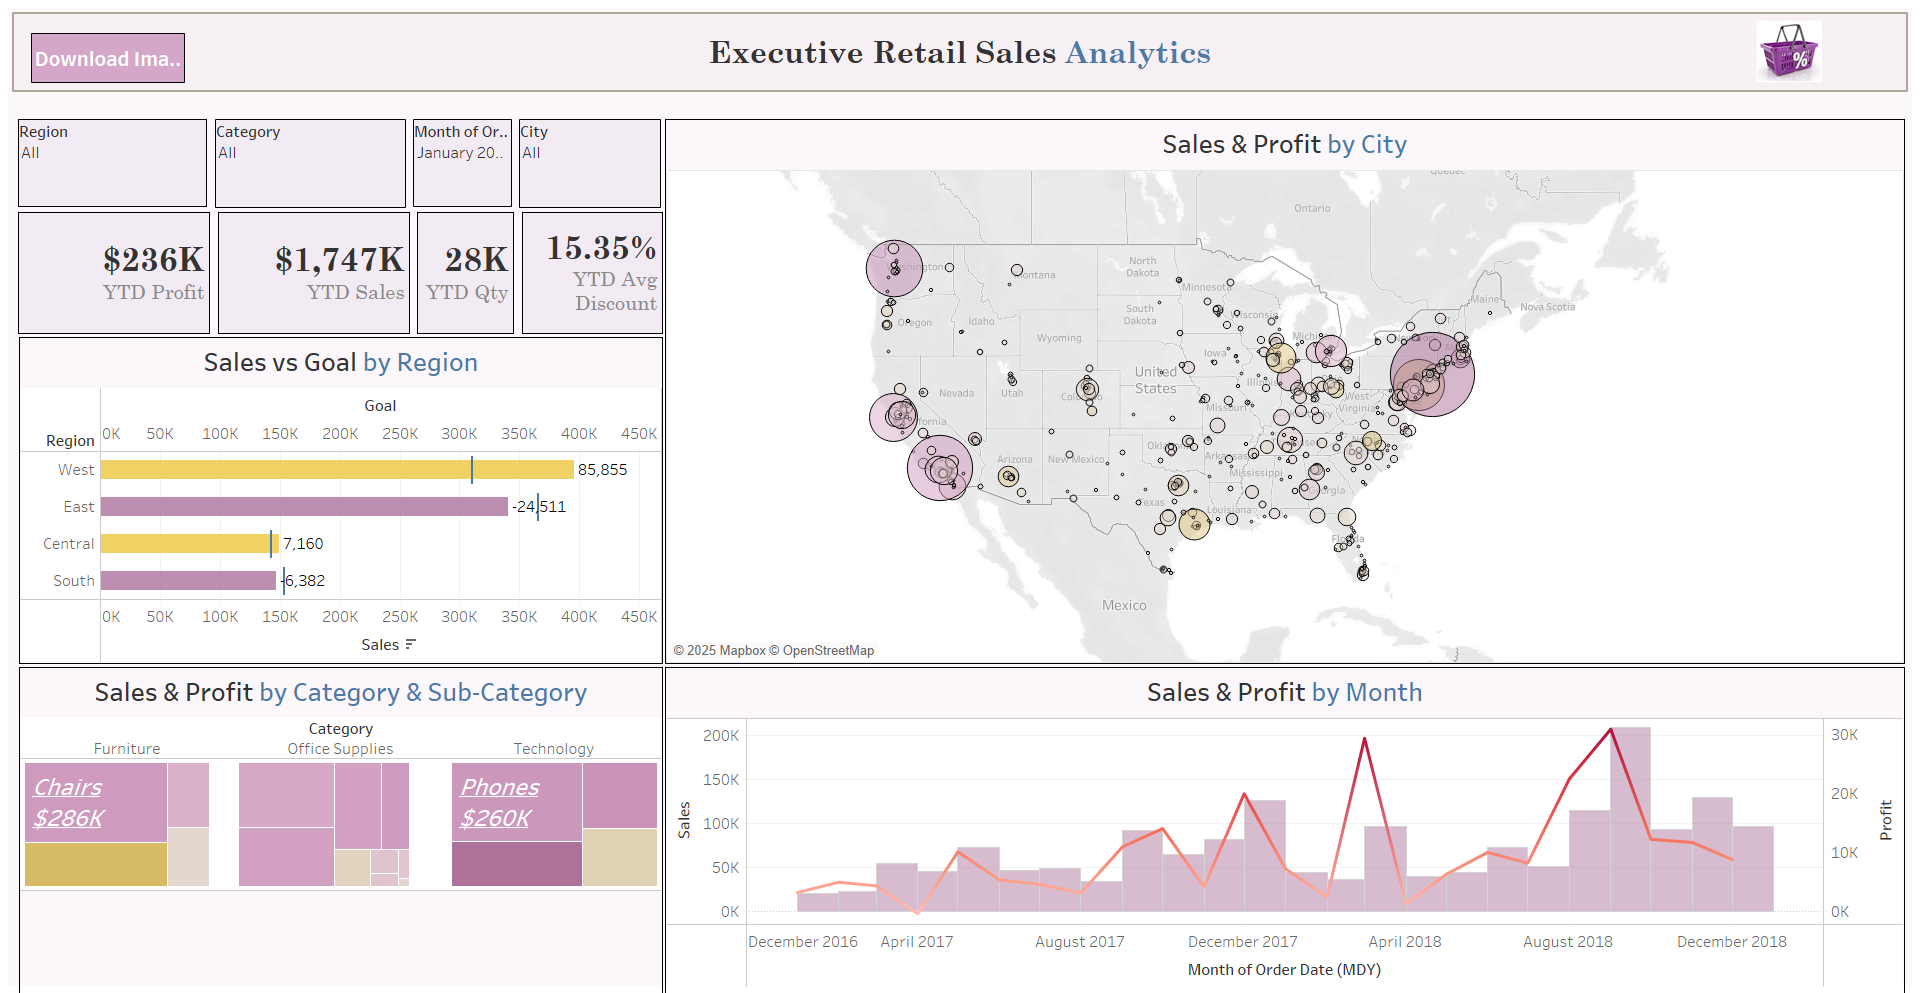

This screenshot's page, from the dashboard's own definition file:
{"tool":"tableau","page":{"name":"Dashboard 1","canvas":[1000,1000],"units":"permille","ordinal":0},"visuals":[{"type":"title","box":[4.8,10,990.3,109.9]},{"type":"image","param":"Image/STORE.jpg","box":[906.2,20,51.4,62.4]},{"type":"dashboard-object","box":[16.3,33.7,80.3,49.9]},{"type":"filter","title":"Sheet 2","param":"[federated.0otv4zu1pa6xi91826qd8018jcip].[none:Region:nk]","box":[9.5,119.9,98.5,88.6]},{"type":"filter","title":"Sheet 3","param":"[federated.0otv4zu1pa6xi91826qd8018jcip].[none:Category:nk]","box":[111.8,119.9,99.6,89.9]},{"type":"filter","title":"Sheet 4","param":"[federated.0otv4zu1pa6xi91826qd8018jcip].[tmn:Order Date (MDY):qk]","box":[215,119.9,51.4,88.6]},{"type":"filter","title":"Sheet 5","param":"[federated.0otv4zu1pa6xi91826qd8018jcip].[none:City:nk]","box":[270.1,119.9,74.2,89.9]},{"type":"worksheet","title":"Sheet 5","mark":"Automatic","box":[346.4,119.9,645.7,549.3]},{"type":"worksheet","title":"Sheet 6 (2)","mark":"Automatic","box":[7.2,209.7,93.5,131.1]},{"type":"worksheet","title":"Sheet 6","mark":"Automatic","box":[100.8,209.7,93.5,131.1]},{"type":"worksheet","title":"Sheet 6 (3)","mark":"Automatic","box":[194.3,209.7,63.4,131.1]},{"type":"worksheet","title":"Sheet 6 (4)","mark":"Automatic","box":[257.7,209.7,89.9,131.1]},{"type":"worksheet","title":"Sheet 2","mark":"Automatic","rows":["Region"],"cols":["Sales","Goal"],"box":[9.7,339.6,335.6,329.6]},{"type":"worksheet","title":"Sheet 3","mark":"Automatic","cols":["Category"],"box":[9.7,671.7,335.6,333.3]},{"type":"worksheet","title":"Sheet 4","mark":"Automatic","rows":["Sales","Profit"],"cols":["Order Date (MDY)"],"box":[346.4,671.7,645.8,333.3]}]}

Visuals, with their boxes on the dashboard's canvas, which has no fixed pixel size, in thousandths of its width and height (x1, y1, x2, y2). These are canvas units, not pixel positions in the 1920x993 screenshot, which may show the page scaled, cropped or inside an application window:
title: 5, 10, 995, 120
image: 906, 20, 958, 82
dashboard-object: 16, 34, 97, 84
"Sheet 2" filter: 10, 120, 108, 208
"Sheet 3" filter: 112, 120, 211, 210
"Sheet 4" filter: 215, 120, 266, 208
"Sheet 5" filter: 270, 120, 344, 210
"Sheet 5" worksheet: 346, 120, 992, 669
"Sheet 6 (2)" worksheet: 7, 210, 101, 341
"Sheet 6" worksheet: 101, 210, 194, 341
"Sheet 6 (3)" worksheet: 194, 210, 258, 341
"Sheet 6 (4)" worksheet: 258, 210, 348, 341
"Sheet 2" worksheet: 10, 340, 345, 669
"Sheet 3" worksheet: 10, 672, 345, 1005
"Sheet 4" worksheet: 346, 672, 992, 1005
